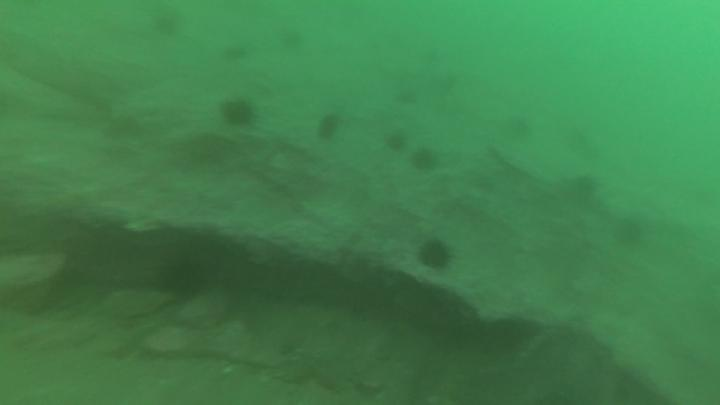echinus: (162, 259, 202, 294), (614, 219, 641, 248), (422, 242, 450, 269), (225, 101, 254, 126), (320, 116, 339, 143), (574, 175, 597, 197), (415, 149, 438, 170), (387, 129, 402, 149)
